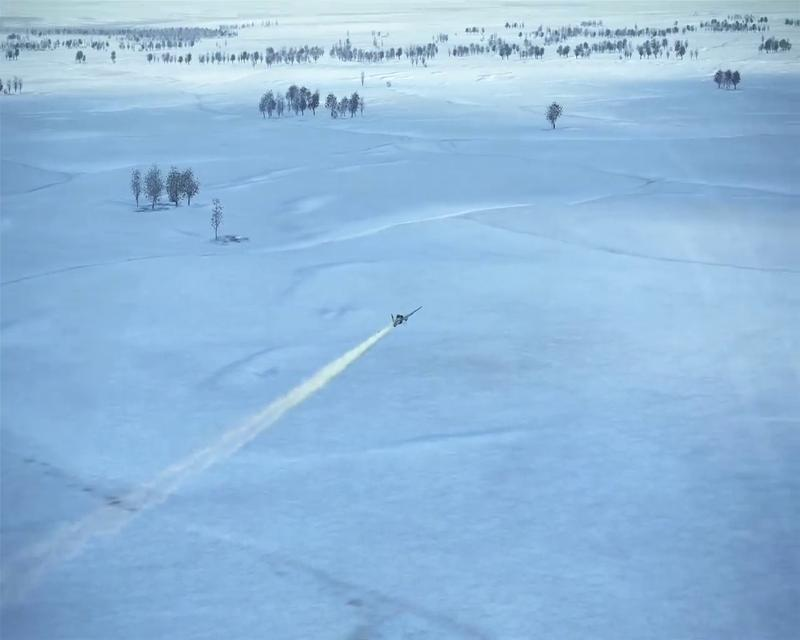UAV: (376, 305, 424, 333)
